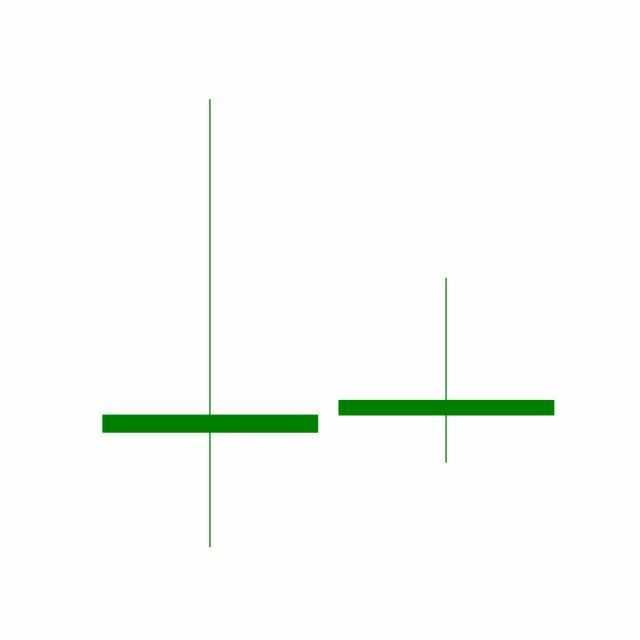Spinning Top: (328, 276, 566, 465)
